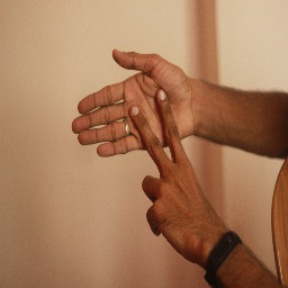N: (64, 48, 208, 228)
